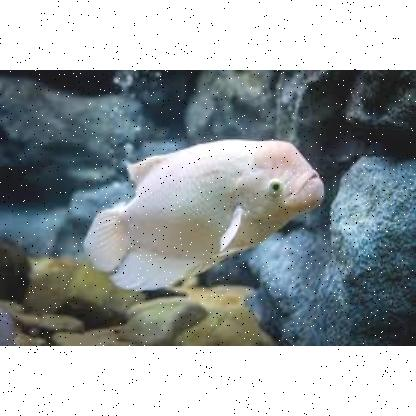gurame: (89, 138, 326, 278)
